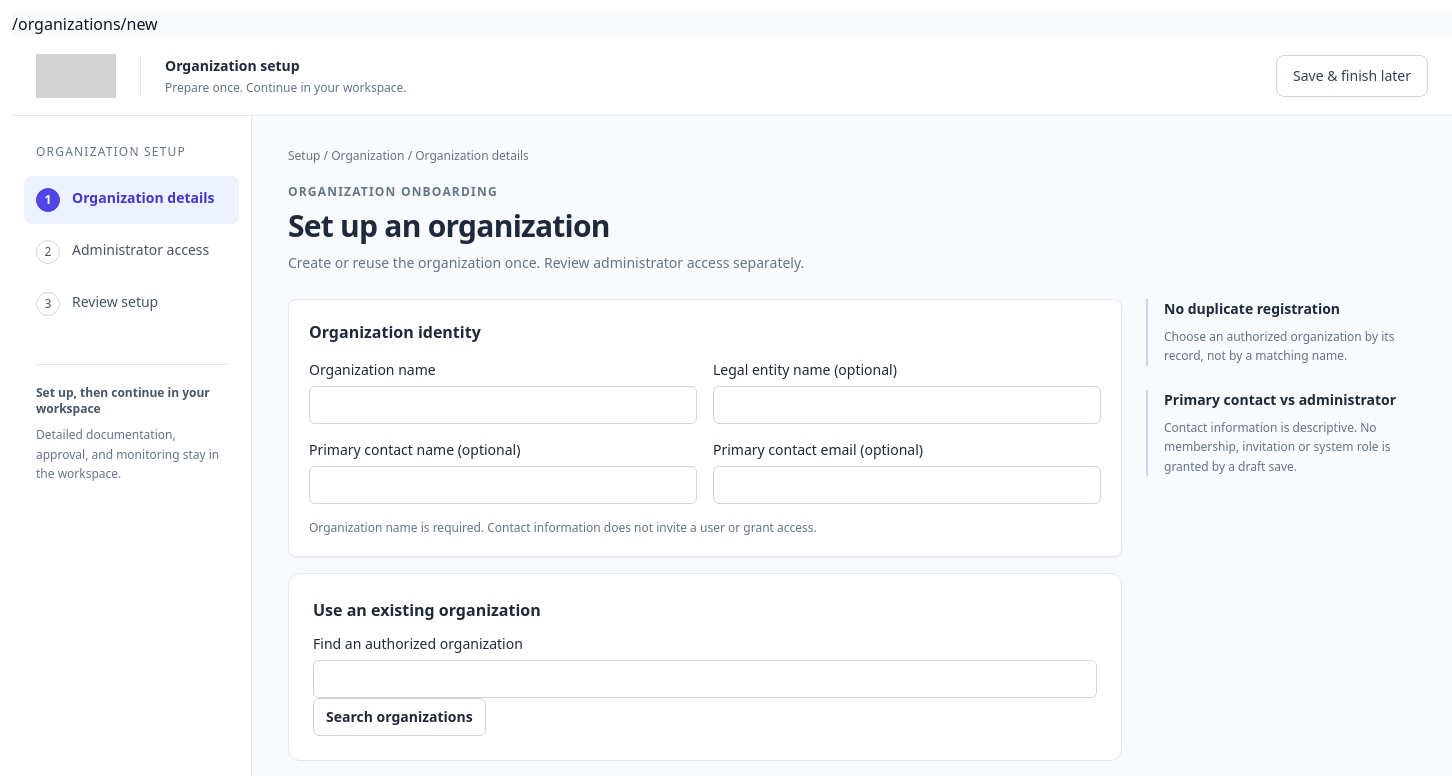
Test case: CSP Add Organization approved flow › surfaces search and existing-scope lookup failures instead of inventing organization matches
The image size is (1452, 776).
What coordinates should you click on to do the following:
click the button "Search organizations"
I would click on:
 (399, 717)
Its box is [313, 698, 486, 736].
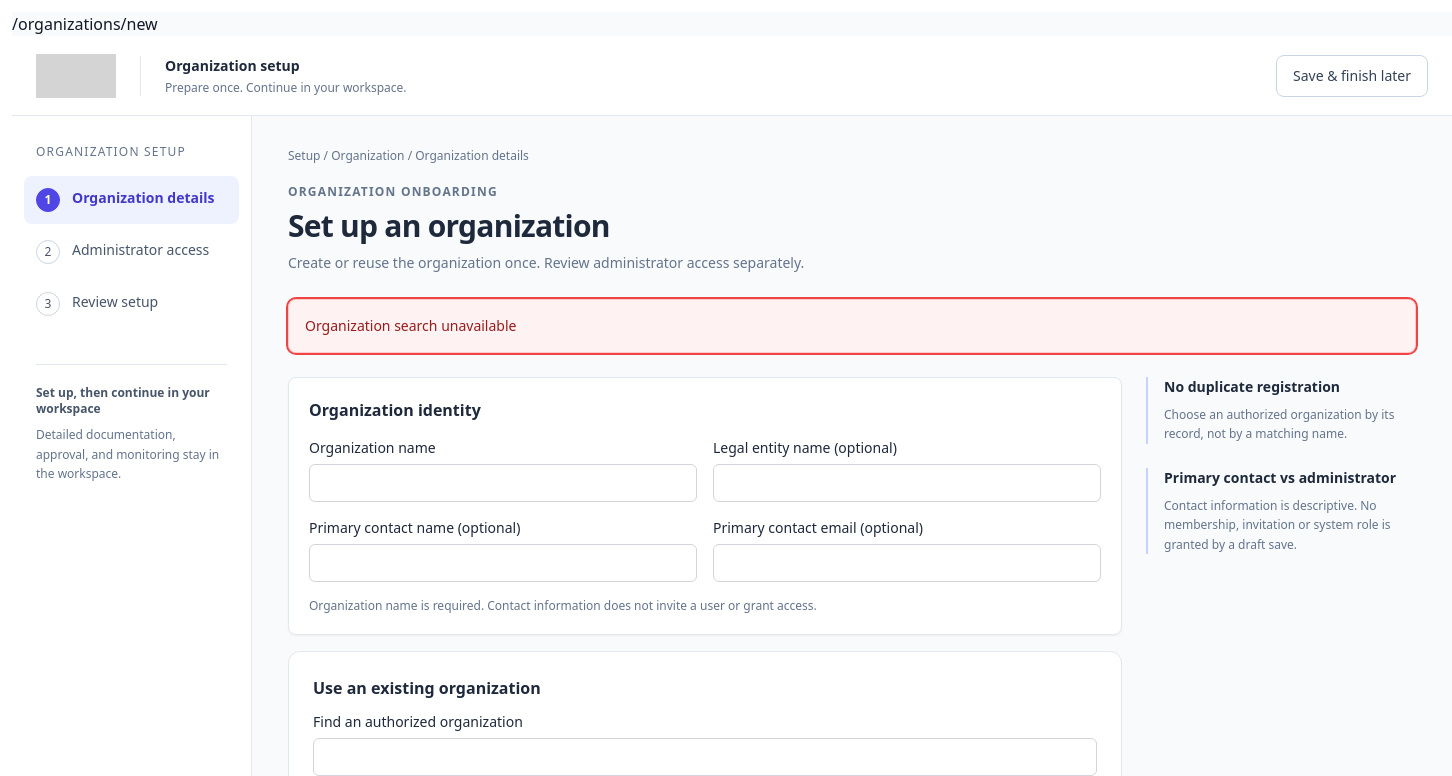
Expected: the text "Organization search unavailable" is shown, [288, 299, 1416, 353]
